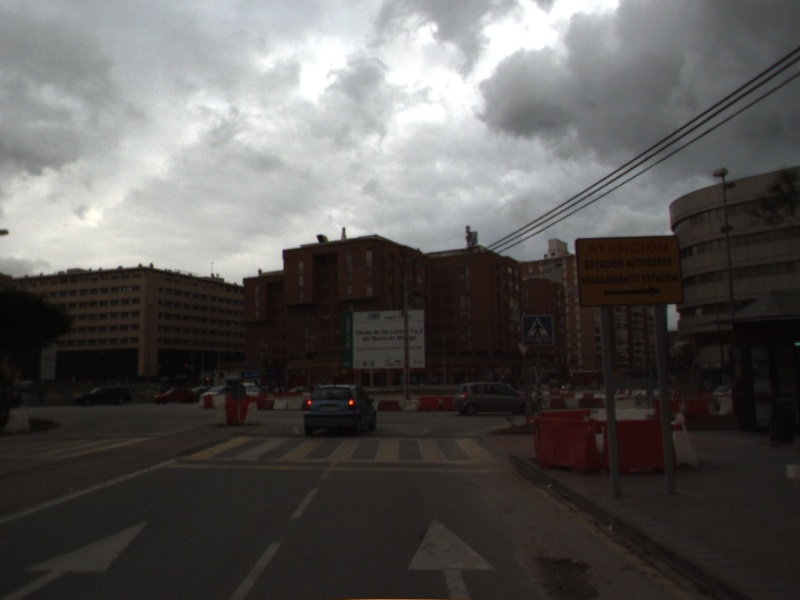STRAIGHT: (1, 515, 157, 600), (403, 514, 499, 600)
